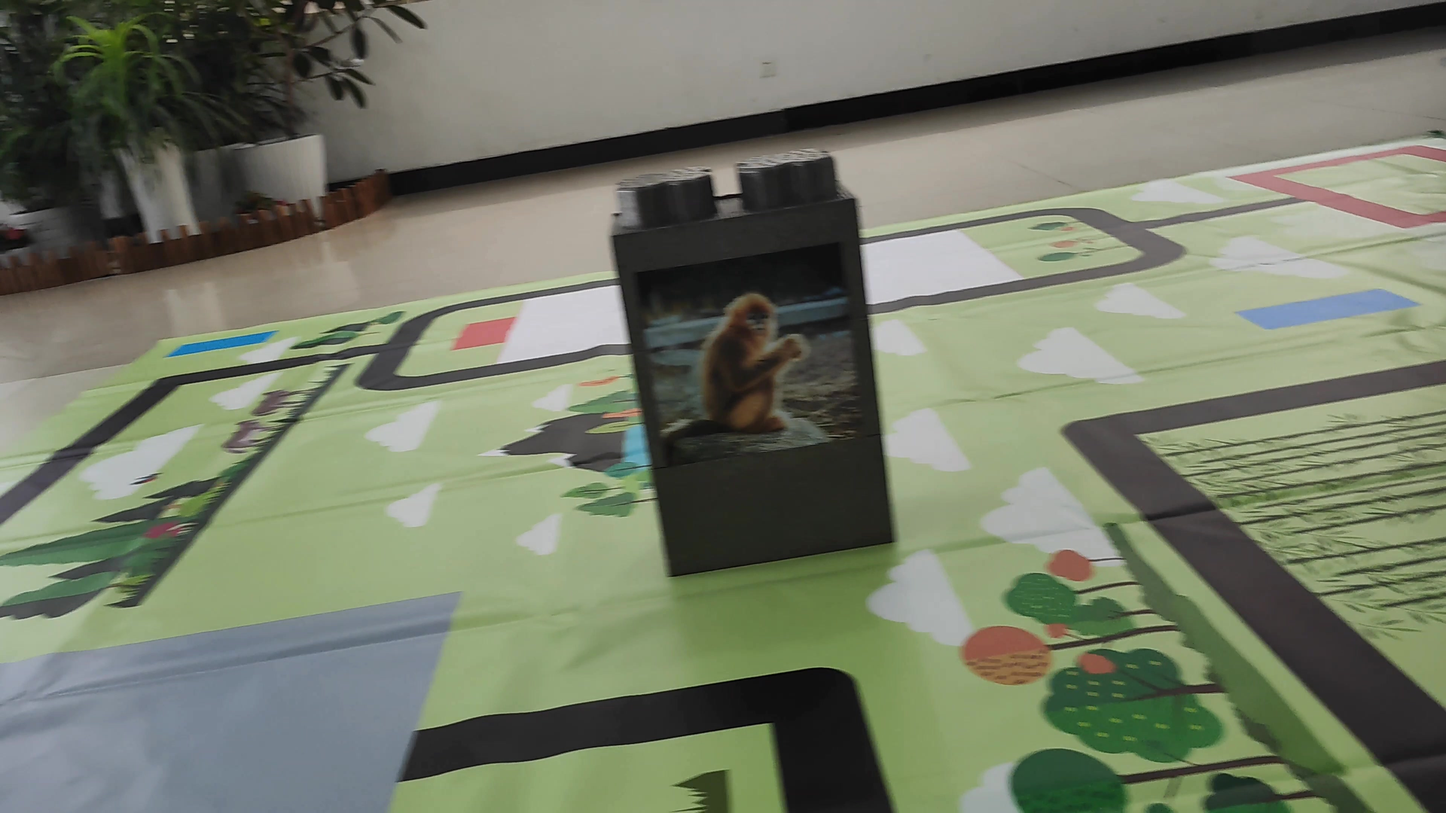monkey: (653, 285, 840, 466)
